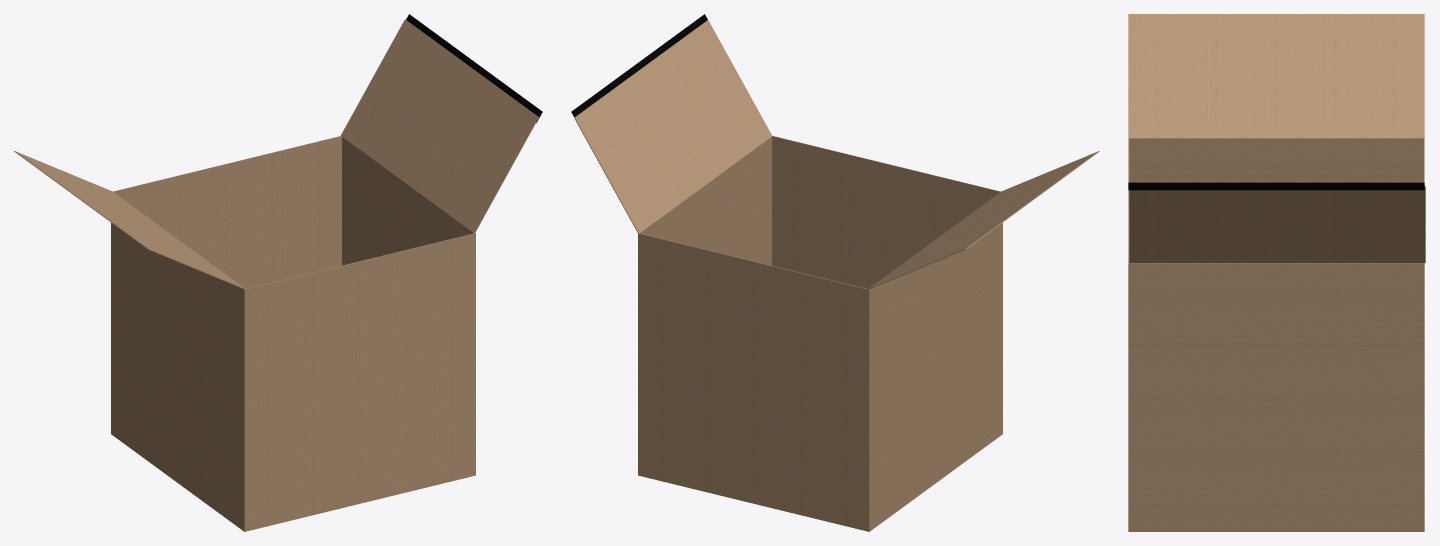
File: boxxxes.fbx
3 views of the same model, side by side, from view 1: azimuth 30°, elevation 25°; view 2: azimuth 150°, elevation 25°; view 3: azimuth 270°, elevation 25° (orthographic). The views are drawn at different scales.
Visible parts, largest first — view 1: box; view 2: box; view 3: box.
Part boxes in pixels (box(x1,y1,x2,y2)): box: box(14, 14, 542, 531); box: box(571, 14, 1099, 531); box: box(1128, 14, 1425, 531).
Size of the model in its own units: 171 by 143 by 100.
